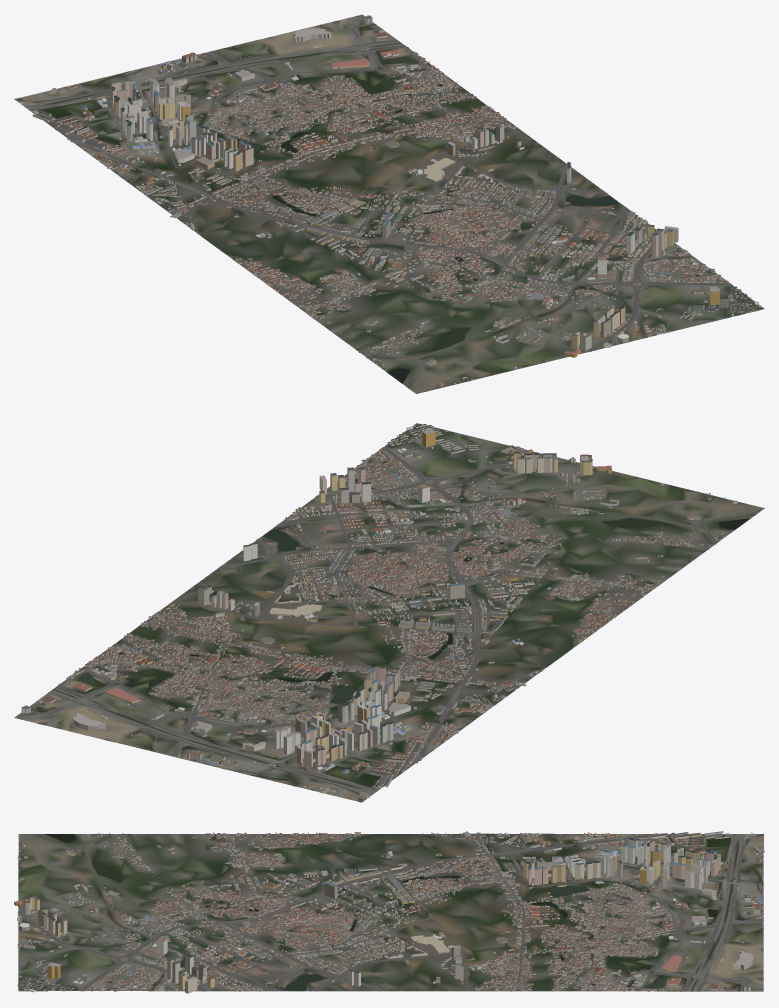
The picture shows the model from 3 angles, top to bottom: view 1: azimuth 30°, elevation 25°; view 2: azimuth 150°, elevation 25°; view 3: azimuth 270°, elevation 25°; orthographic projection. The views are drawn at different scales.
Visible parts, largest first — view 1: ground, buildings, roads, water; view 2: ground, buildings, roads, water; view 3: ground, buildings, roads, water.
Part boxes in pixels (x1,y1,x2,y2): ground: (14, 14, 764, 393); buildings: (20, 15, 760, 386); roads: (25, 24, 731, 365); water: (111, 20, 662, 383); ground: (14, 423, 764, 802); buildings: (21, 423, 737, 798); roads: (39, 435, 722, 794); water: (36, 454, 750, 751); ground: (18, 833, 763, 991); buildings: (14, 831, 764, 993); roads: (17, 833, 763, 991); water: (41, 834, 763, 991).
Size of the model in its own units: 2871 by 170 by 5650.
